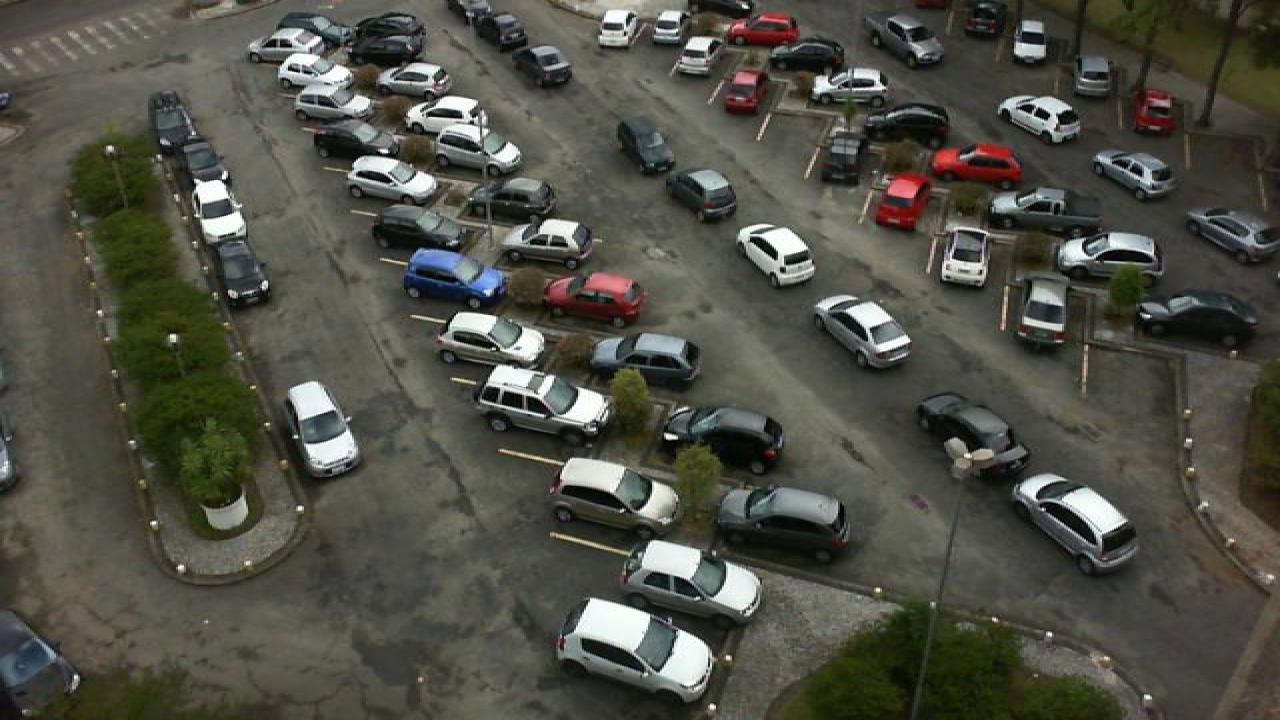Car: (550, 596, 718, 706), (1010, 470, 1140, 577), (618, 538, 762, 624), (472, 364, 612, 446), (548, 457, 684, 541), (714, 486, 852, 564), (914, 389, 1030, 479), (656, 401, 786, 474), (430, 308, 552, 375), (810, 291, 914, 369), (284, 380, 364, 478), (1132, 290, 1260, 346), (396, 246, 508, 304), (588, 332, 704, 387), (406, 124, 524, 178), (538, 270, 650, 325), (1054, 230, 1166, 282), (1182, 204, 1280, 262), (736, 222, 820, 289), (984, 184, 1100, 231), (344, 153, 444, 203), (1006, 273, 1070, 350), (498, 218, 594, 269), (1090, 148, 1180, 202), (368, 204, 470, 250), (996, 92, 1084, 145), (862, 12, 946, 66), (458, 176, 556, 222), (210, 238, 272, 308), (664, 167, 740, 221), (310, 119, 402, 162), (190, 176, 248, 242), (614, 114, 676, 175), (928, 143, 1024, 182), (872, 172, 932, 233), (858, 102, 954, 139), (934, 225, 990, 287), (806, 68, 892, 108), (404, 95, 488, 135), (368, 61, 454, 98), (290, 86, 372, 124), (244, 26, 328, 63), (764, 36, 846, 72), (272, 52, 352, 88), (512, 42, 574, 88), (148, 90, 198, 147), (722, 11, 800, 47), (478, 10, 536, 55), (348, 35, 426, 67), (820, 132, 866, 186), (1130, 85, 1180, 134), (178, 138, 228, 184), (720, 66, 768, 112), (670, 35, 724, 75), (352, 11, 426, 40), (1008, 18, 1052, 64), (1070, 54, 1114, 98), (592, 8, 638, 48), (648, 8, 692, 45), (964, 0, 1006, 37)
